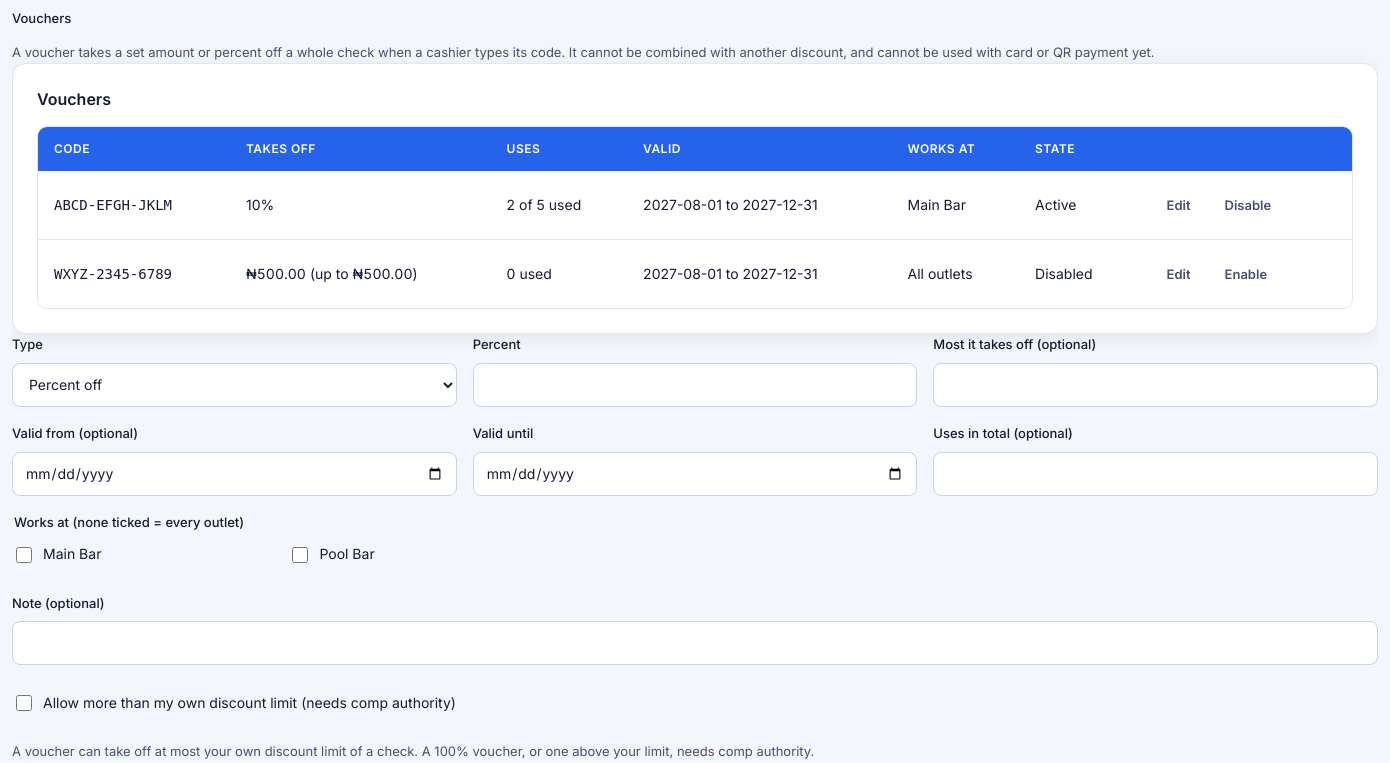
<VouchersSection> › sends the override flag only when ticked, and shows the server's refusal
Expected: the text "ABCD-EFGH-JKLM" is shown, [54,197,172,213]
Type "60" into the field labelled "Percent".
click(695, 385); type("60")  # box [473,363,917,407]
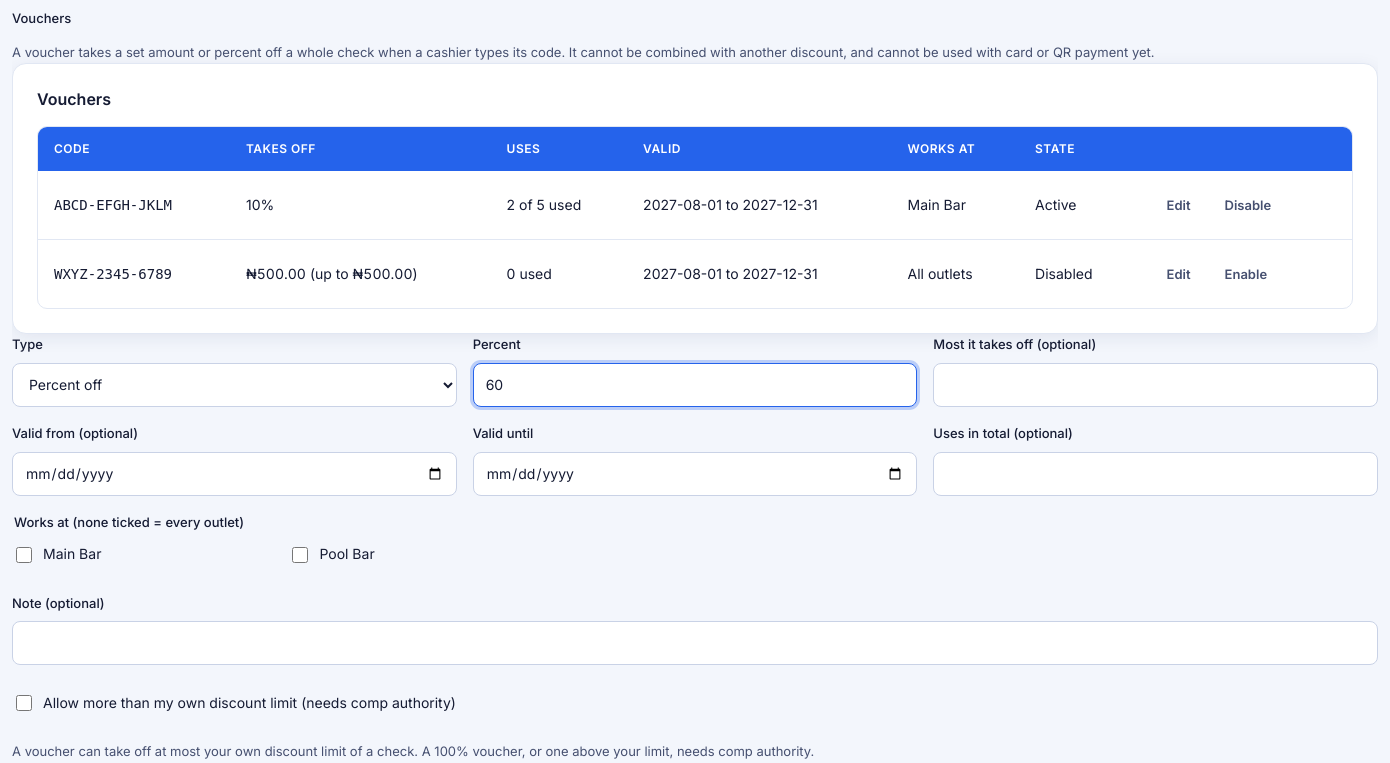
Type "2027-12-31" into the date field labelled "Valid until".
click(695, 474); type("2027-12-31")  # box [473,452,917,496]
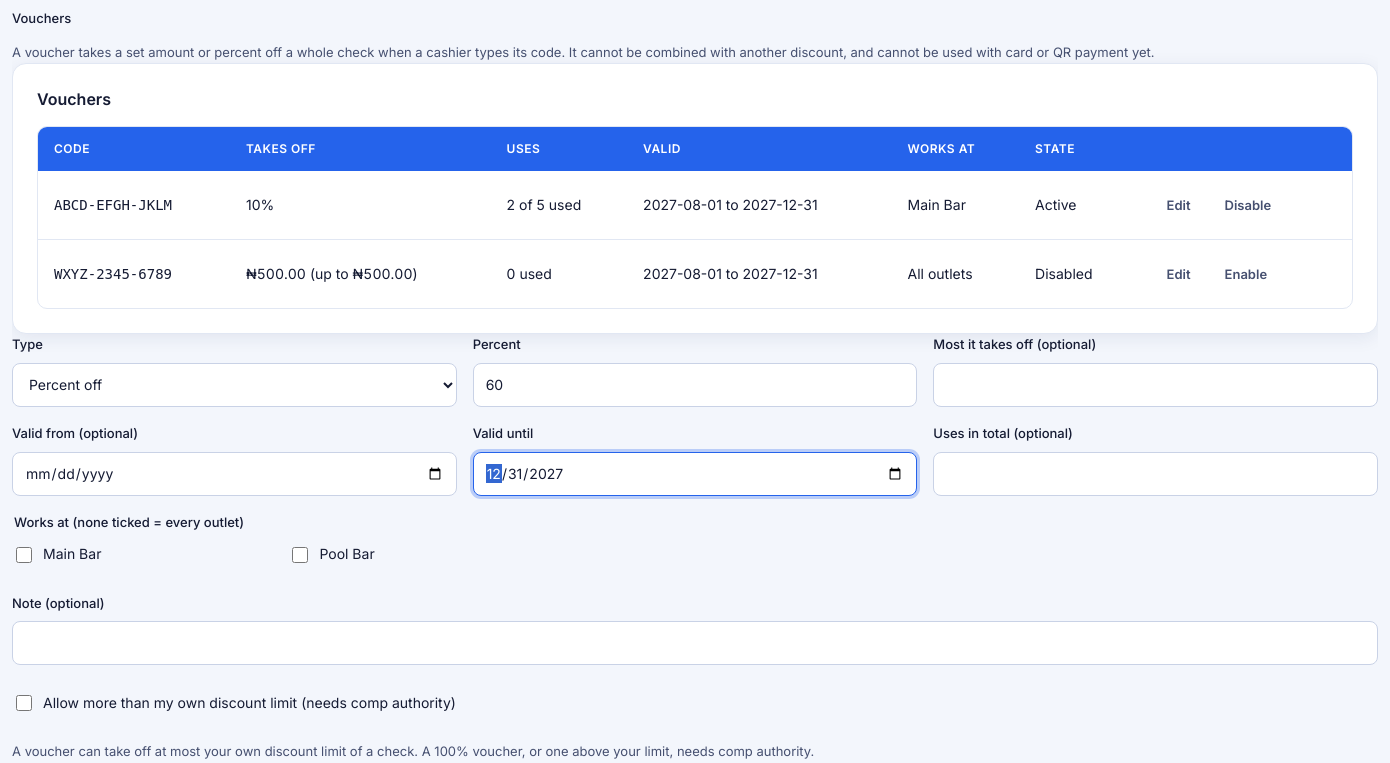
Click the checkbox labelled "Allow more than my own discount limit (needs comp authority)".
click(24, 703)  # box [16,695,32,711]
(page scrolled)
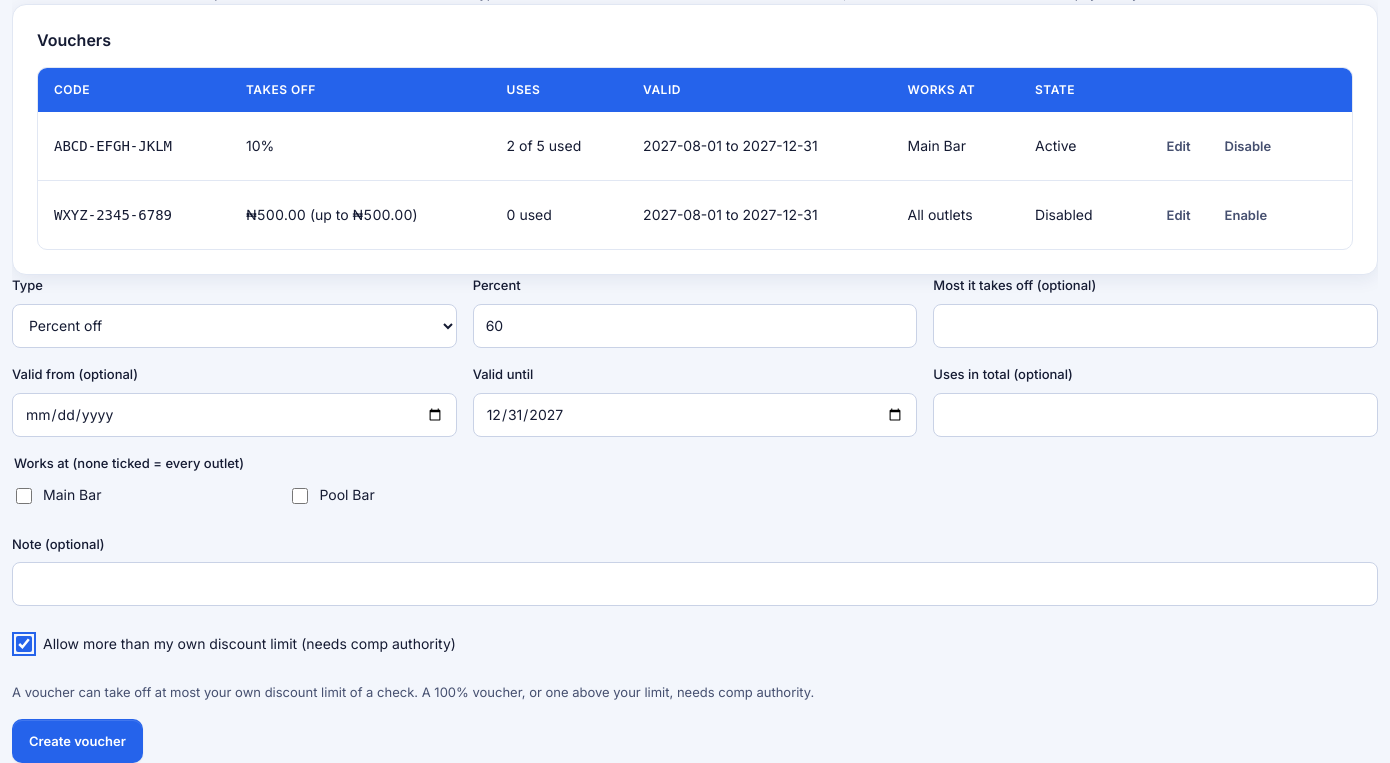
Click the button "Create voucher".
click(77, 741)  # box [12,719,143,762]
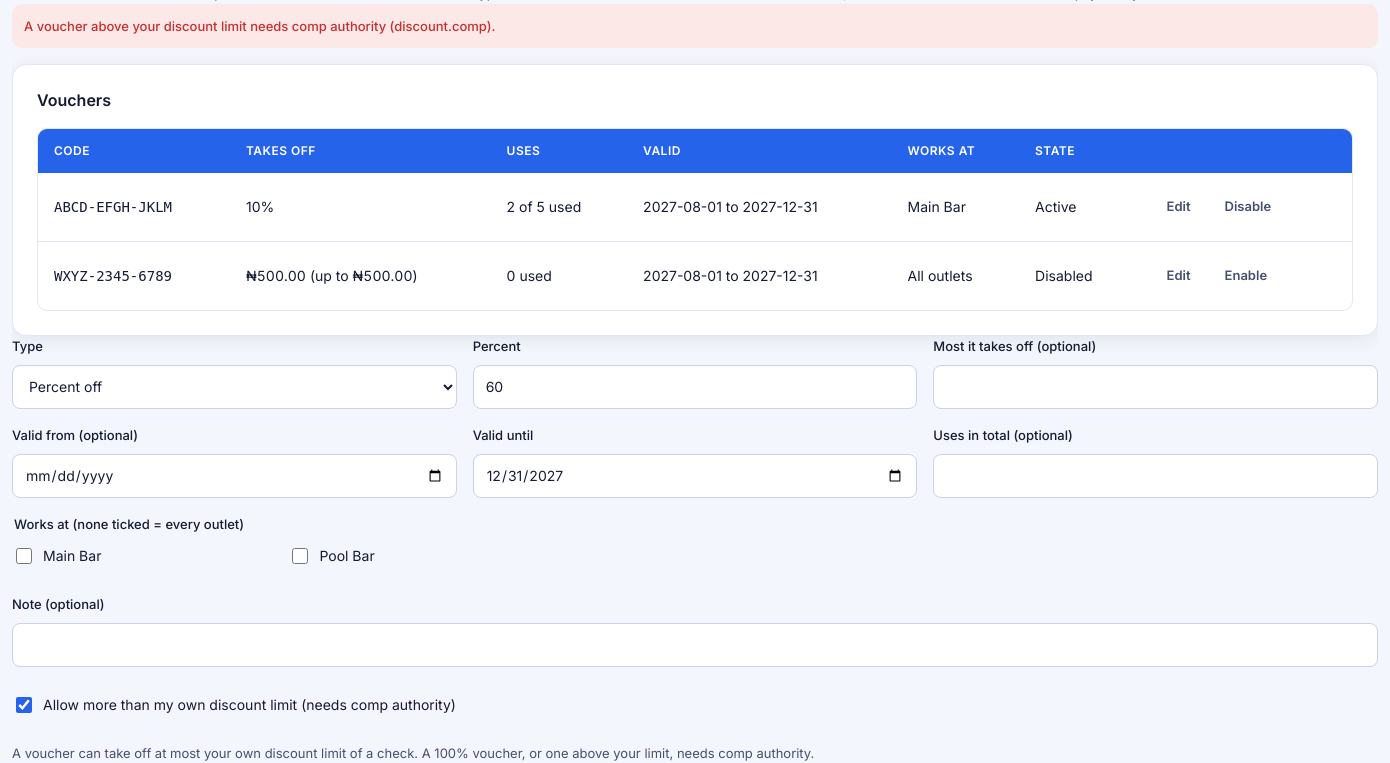
Now the message shows "needs comp authority", box [24,18,496,34]
